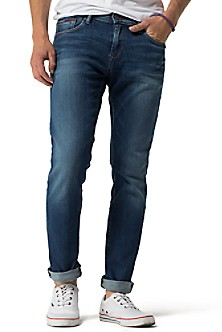Jeans: (41, 16, 169, 295)
